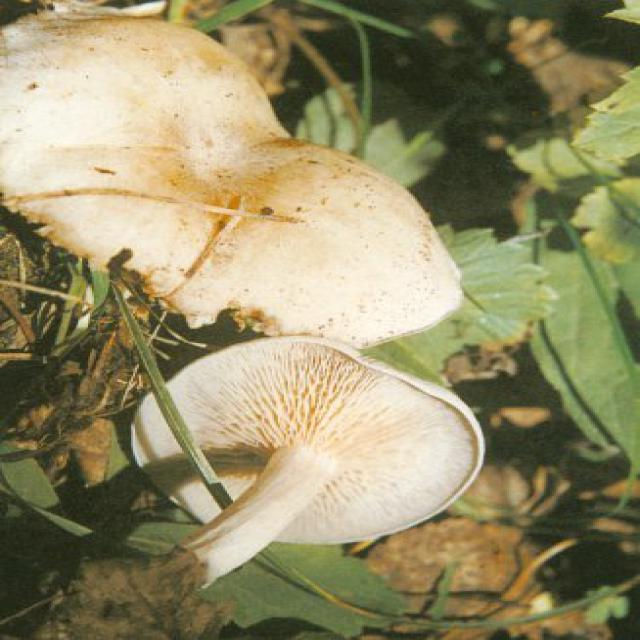Clitocybe maxima: (0, 15, 467, 336), (123, 340, 492, 578)
